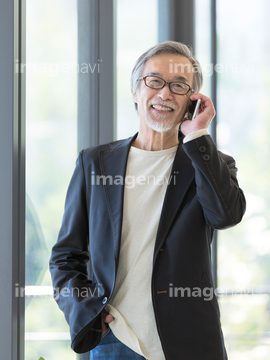phone: (182, 89, 221, 125)
talk: (139, 70, 222, 135)
